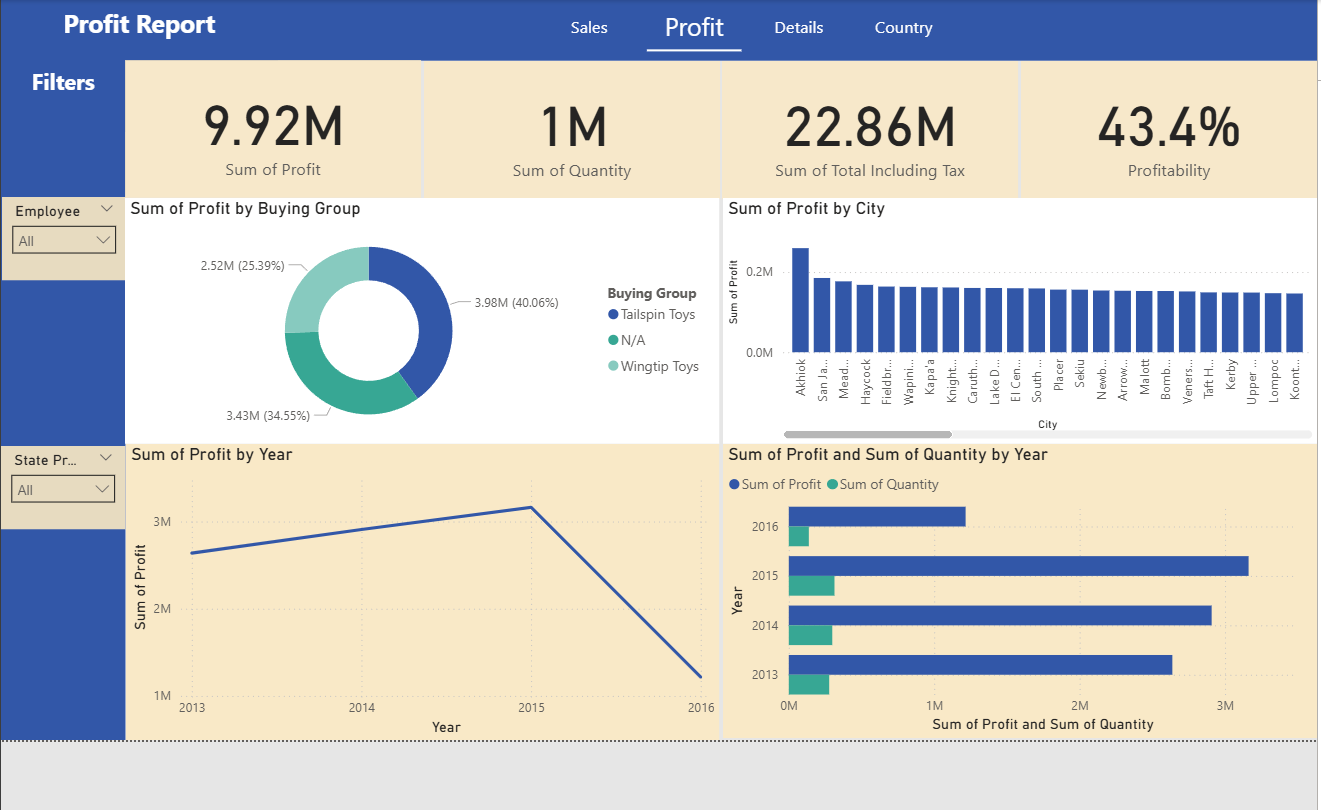

The page's visual inventory and layout, read from the dashboard file:
{"tool":"powerbi","page":{"name":"Profit","canvas":[1280,720],"ordinal":1},"visuals":[{"type":"shape","box":[0,0,1280,59.1],"z":0},{"type":"shape","box":[0,1,121,719],"z":1000},{"type":"textbox","box":[0,1,269,58],"z":2000},{"type":"textbox","box":[0,59,121,69],"z":3000},{"type":"card","fields":{"Values":["Sum(FactSale.Profit)"]},"box":[121,58.7,288,134],"z":4000},{"type":"card","fields":{"Values":["Sum(FactSale.Quantity)"]},"box":[411.3,59,288,134],"z":5000},{"type":"card","fields":{"Values":["Sum(FactSale.Total Including Tax)"]},"box":[701.7,59,288,134],"z":6000},{"type":"card","fields":{"Values":["FactSale.Profitability"]},"box":[992,59,288,134],"z":7000},{"type":"pageNavigator","box":[526,0,400,50],"z":8000},{"type":"slicer","fields":{"Values":["DimEmployee.Employee"]},"box":[1,192,121,81],"z":9000},{"type":"slicer","fields":{"Values":["DimCity.State Province"]},"box":[0,434,121,81],"z":10000},{"type":"donutChart","fields":{"Category":["DimCustomer.Buying Group"],"Y":["Sum(FactSale.Profit)"]},"box":[121,193,578,239],"z":11000},{"type":"columnChart","fields":{"Category":["DimCity.City"],"Y":["Sum(FactSale.Profit)"]},"box":[702,193,578,239],"z":12000},{"type":"lineChart","fields":{"Category":["DimDate.Date.Variation.Date Hierarchy.Year","DimDate.Date.Variation.Date Hierarchy.Quarter","DimDate.Date.Variation.Date Hierarchy.Month","DimDate.Date.Variation.Date Hierarchy.Day"],"Y":["Sum(FactSale.Profit)"]},"box":[122,432,577,288],"z":13000},{"type":"clusteredBarChart","fields":{"Category":["DimDate.Date.Variation.Date Hierarchy.Year","DimDate.Date.Variation.Date Hierarchy.Quarter","DimDate.Date.Variation.Date Hierarchy.Month","DimDate.Date.Variation.Date Hierarchy.Day"],"Y":["Sum(FactSale.Profit)","Sum(FactSale.Quantity)"]},"box":[702,432,578,286],"z":14000}]}

Visuals, with their boxes on the page's 1280x720 design canvas (x1, y1, x2, y2). These are canvas units, not pixel positions in the 1321x810 screenshot, which may show the page scaled, cropped or inside an application window:
shape: region(0, 0, 1280, 59)
shape: region(0, 1, 121, 720)
textbox: region(0, 1, 269, 59)
textbox: region(0, 59, 121, 128)
card - Sum(FactSale.Profit): region(121, 59, 409, 193)
card - Sum(FactSale.Quantity): region(411, 59, 699, 193)
card - Sum(FactSale.Total Including Tax): region(702, 59, 990, 193)
card - FactSale.Profitability: region(992, 59, 1280, 193)
pageNavigator: region(526, 0, 926, 50)
slicer - DimEmployee.Employee: region(1, 192, 122, 273)
slicer - DimCity.State Province: region(0, 434, 121, 515)
donutChart - DimCustomer.Buying Group x Sum(FactSale.Profit): region(121, 193, 699, 432)
columnChart - DimCity.City x Sum(FactSale.Profit): region(702, 193, 1280, 432)
lineChart - DimDate.Date.Variation.Date Hierarchy.Year x DimDate.Date.Variation.Date Hierarchy.Quarter: region(122, 432, 699, 720)
clusteredBarChart - DimDate.Date.Variation.Date Hierarchy.Year x DimDate.Date.Variation.Date Hierarchy.Quarter: region(702, 432, 1280, 718)
